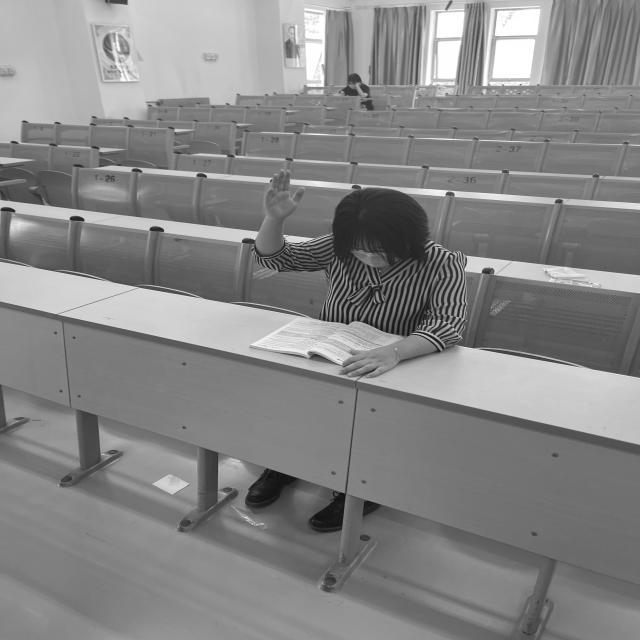study: (253, 170, 466, 379)
